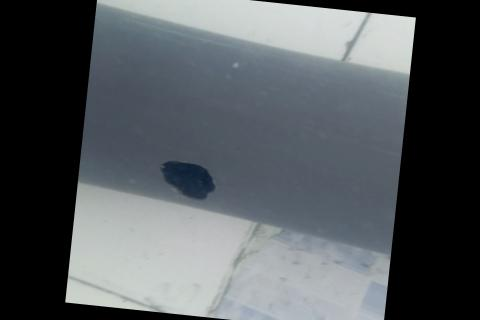kebocoran: (153, 157, 219, 204)
